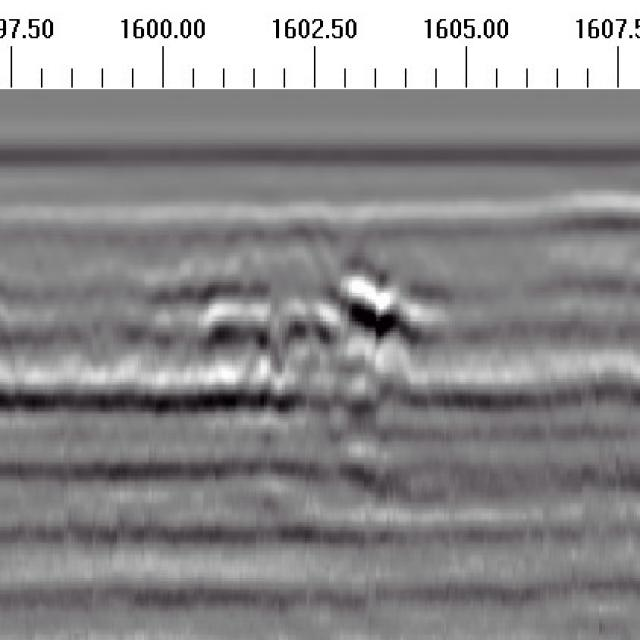loose: (165, 262, 427, 434)
